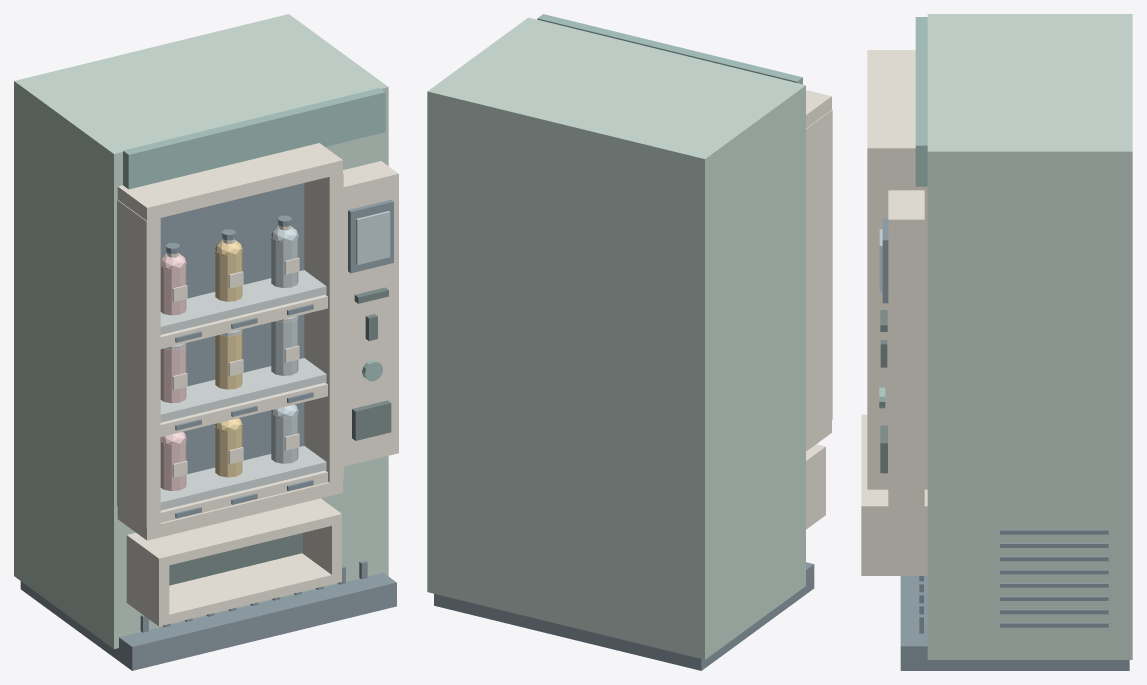
Rendered from prop-vending.glb.
The picture shows the model from 3 angles, left to right: view 1: azimuth 30°, elevation 25°; view 2: azimuth 150°, elevation 25°; view 3: azimuth 270°, elevation 25°; orthographic projection. The views are drawn at different scales.
Parts seen in each view (by area): view 1: cabinet_1, plinth_0; view 2: cabinet_1, plinth_0; view 3: cabinet_1, plinth_0.
Part boxes in pixels (box(x1,y1,x2,y2)): cabinet_1: box(14, 14, 398, 648); plinth_0: box(20, 183, 396, 670); cabinet_1: box(427, 14, 832, 659); plinth_0: box(434, 562, 814, 670); cabinet_1: box(861, 14, 1132, 659); plinth_0: box(880, 218, 1129, 670).
Size of the model in its own units: 1.09 by 1.91 by 0.9.
Materials: 2 (2 with a texture image).
